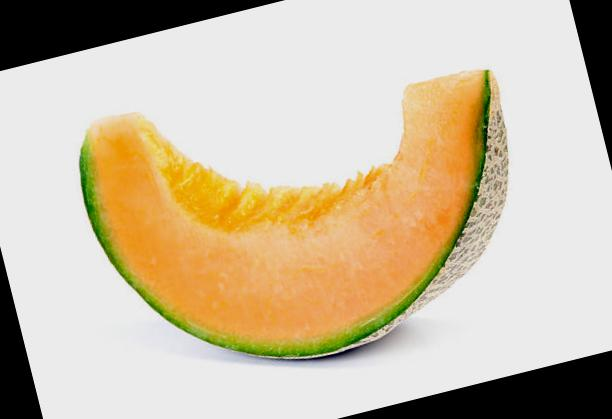Melon Ripe: (66, 22, 552, 405)
